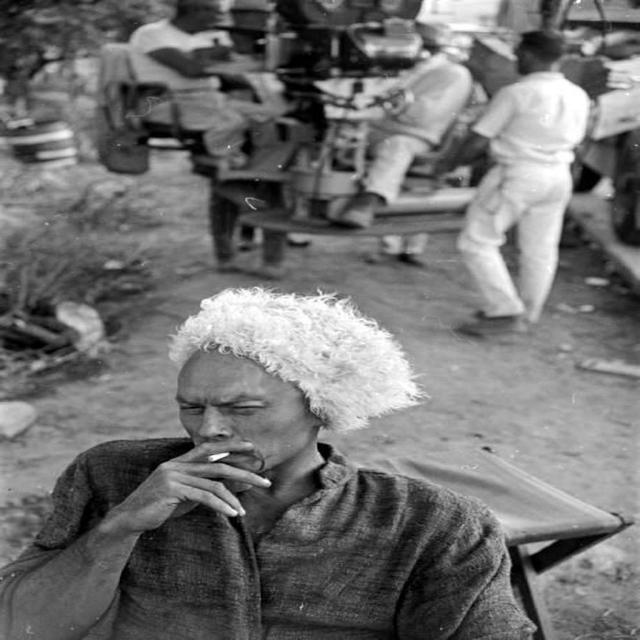smoking: (96, 302, 366, 543)
